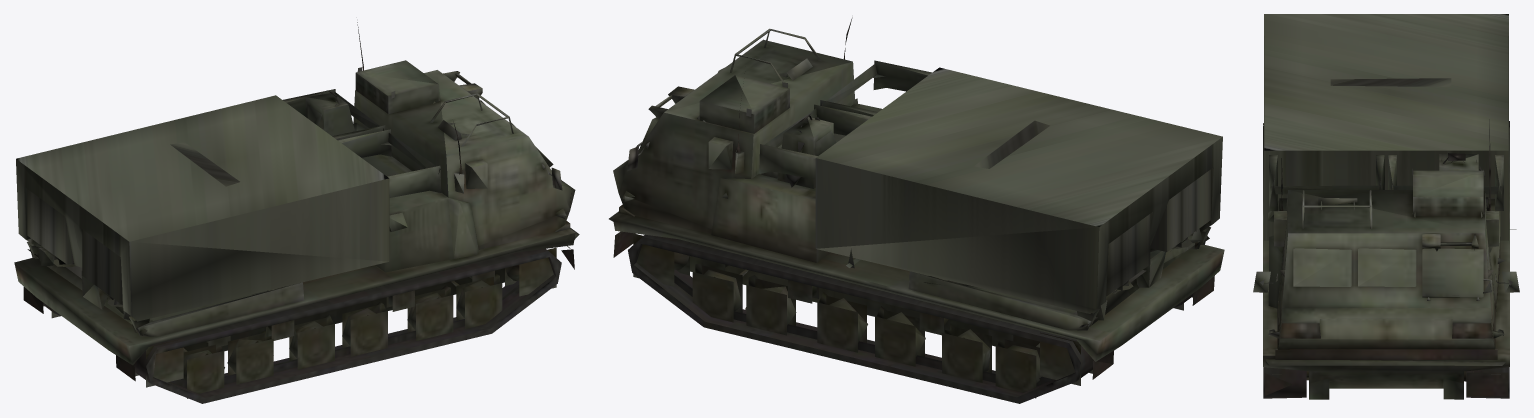
3 renders of one model, left to right at view 1: azimuth 30°, elevation 25°; view 2: azimuth 150°, elevation 25°; view 3: azimuth 270°, elevation 25°, orthographic. The views are drawn at different scales.
Visible parts, largest first — view 1: g_m270_hull, g_m270_turret; view 2: g_m270_hull, g_m270_turret; view 3: g_m270_hull, g_m270_turret.
Boxes of the visible parts, bbox=[...] form: g_m270_hull: bbox=[14, 22, 579, 403]; g_m270_turret: bbox=[16, 95, 389, 321]; g_m270_hull: bbox=[609, 17, 1224, 403]; g_m270_turret: bbox=[815, 67, 1222, 313]; g_m270_hull: bbox=[1253, 119, 1519, 399]; g_m270_turret: bbox=[1264, 14, 1508, 240].
Size of the model in its own units: 6.9 by 3.63 by 3.25.
Materials: 2 (2 with a texture image).
